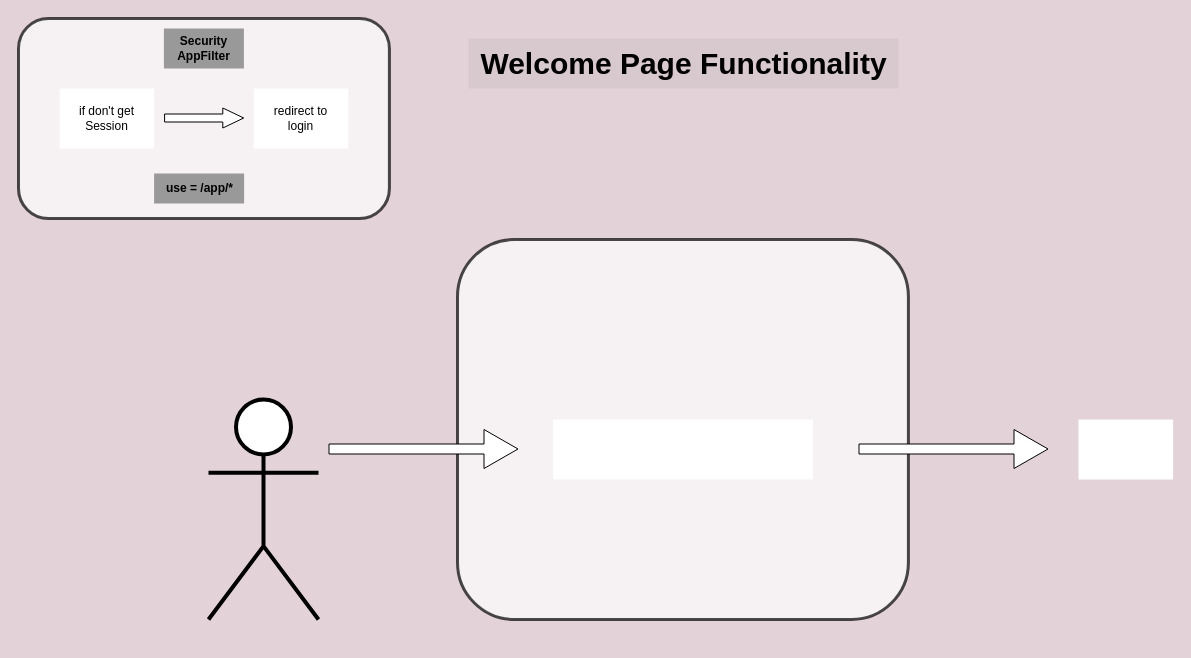
This 1191x658 diagram has some shape labels left out. Each missing label, with the box of its shape:
Actor: (206, 397, 320, 621)
Continue: (552, 419, 812, 479)
redirect to main-dashboard: (1078, 419, 1173, 479)
